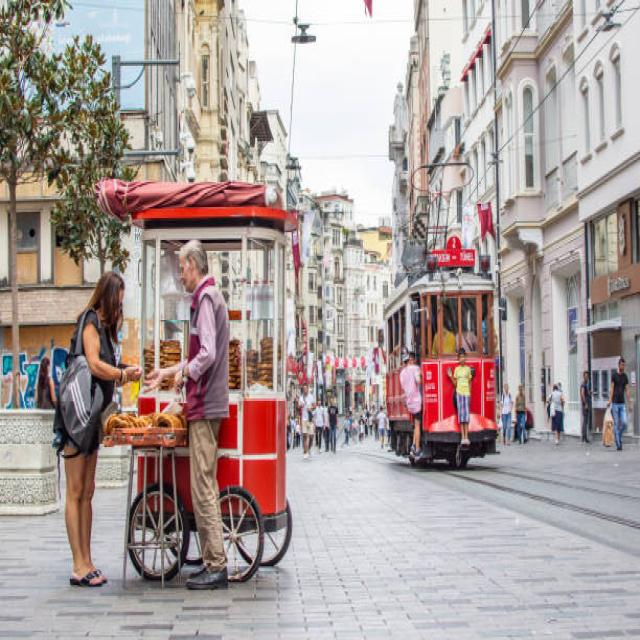Emperan: (42, 150, 314, 598)
